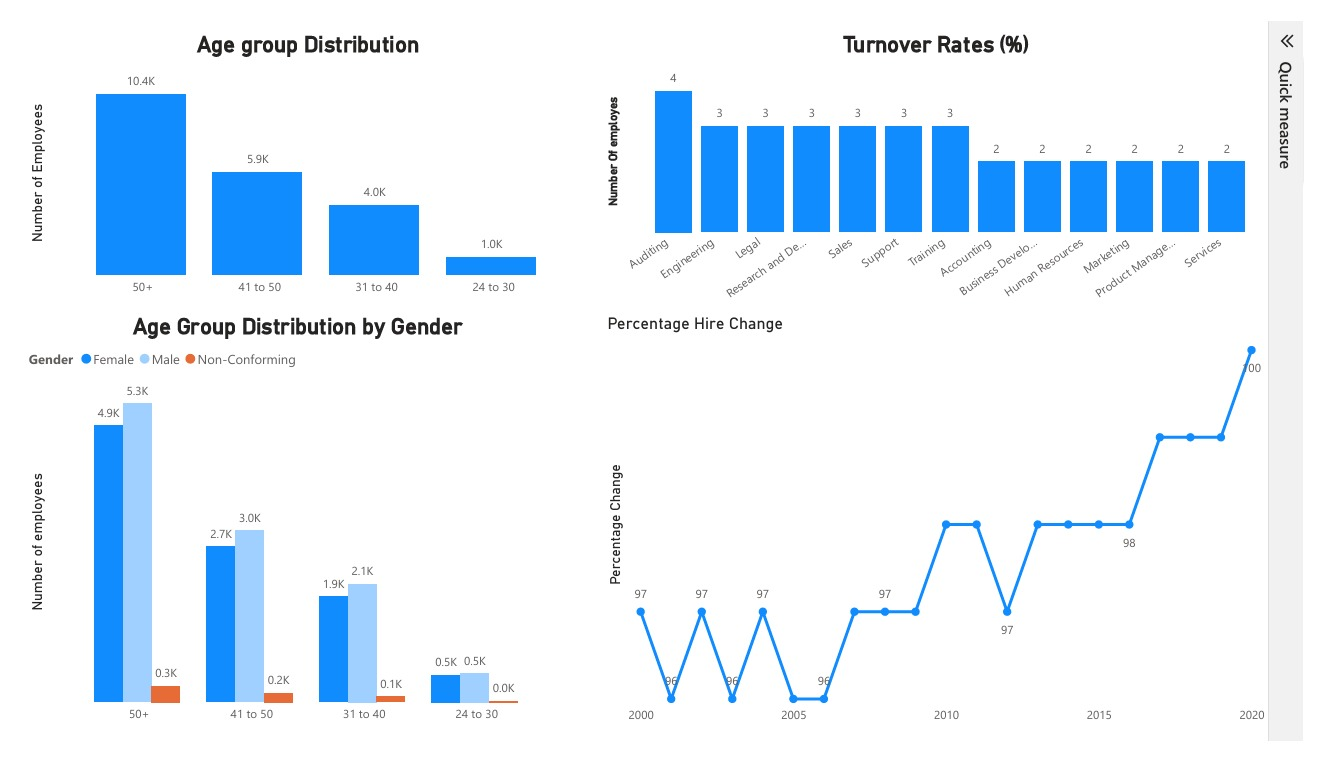

This screenshot's page, from the dashboard's own definition file:
{"tool":"powerbi","page":{"name":"Page 2","canvas":[1280,720],"ordinal":1},"visuals":[{"type":"clusteredColumnChart","title":"Age group Distribution","fields":{"Y":["Sum(age group distribution.Column2)"],"Category":["age group distribution.Column1"]},"box":[0,0,584.4,280],"z":0},{"type":"clusteredColumnChart","title":"Age Group Distribution by Gender","fields":{"Y":["Sum(age group distribution by gender.Column3)"],"Series":["age group distribution by gender.Column2"],"Category":["age group distribution by gender.Column1"]},"box":[0,290,563.3,430],"z":1000},{"type":"columnChart","title":"Turnover Rates (%)","fields":{"Category":["turnover rate.Column1"],"Y":["Sum(turnover rate.Column4)"]},"box":[594.4,0,685.6,287.8],"z":2000},{"type":"lineChart","title":"Percentage Hire Change","fields":{"Category":["percentage hire change.Column1"],"Y":["Sum(percentage hire change.Column5)"]},"box":[595,290,685,430],"z":3000}]}

Visuals, with their boxes on the page's 1280x720 design canvas (x1, y1, x2, y2). These are canvas units, not pixel positions in the 1321x762 screenshot, which may show the page scaled, cropped or inside an application window:
"Age group Distribution" clusteredColumnChart: region(0, 0, 584, 280)
"Age Group Distribution by Gender" clusteredColumnChart: region(0, 290, 563, 720)
"Turnover Rates (%)" columnChart: region(594, 0, 1280, 288)
"Percentage Hire Change" lineChart: region(595, 290, 1280, 720)
